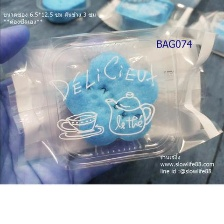snack: (2, 21, 224, 174)
